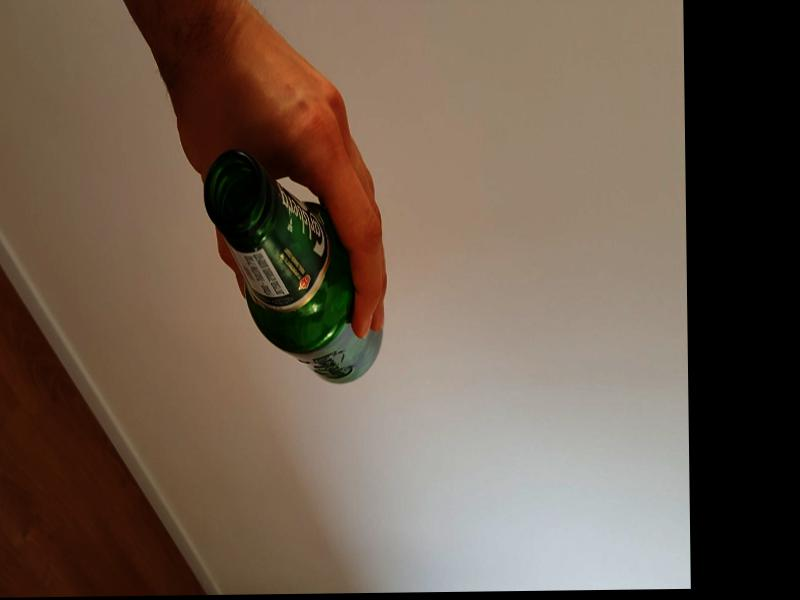Beer: (199, 147, 381, 385)
